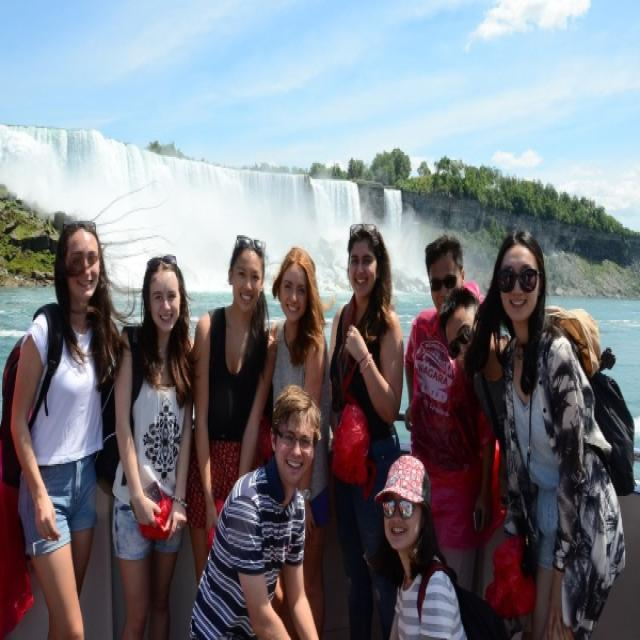body: (455, 222, 638, 638), (8, 217, 136, 638), (187, 379, 326, 640), (326, 222, 406, 640), (112, 253, 194, 640), (192, 231, 277, 594), (403, 232, 488, 595), (245, 243, 333, 542), (371, 451, 468, 640), (436, 283, 515, 451), (0, 464, 35, 638)
